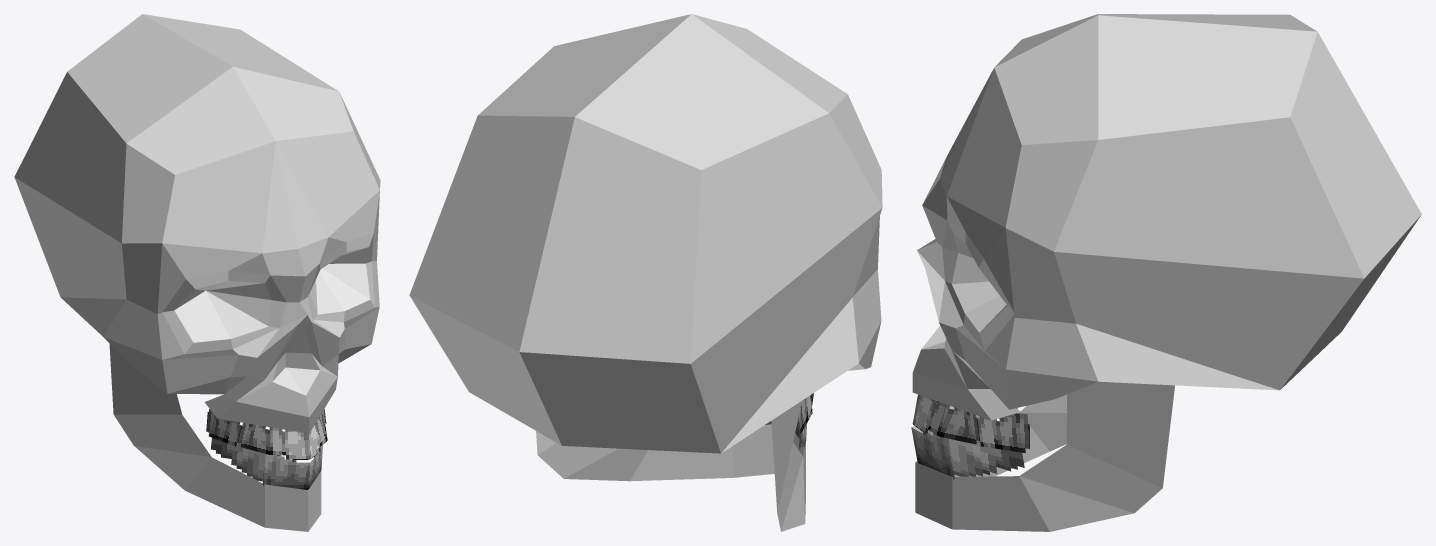
The model's file is Skull.fbx.
3 views of the same model, side by side, from view 1: azimuth 30°, elevation 25°; view 2: azimuth 150°, elevation 25°; view 3: azimuth 270°, elevation 25° (orthographic). The views are drawn at different scales.
Parts seen in each view (by area): view 1: Skull; view 2: Skull; view 3: Skull.
Boxes of the visible parts, x1,y1,x2,y2 form: Skull: (14, 14, 380, 531); Skull: (409, 14, 882, 531); Skull: (911, 14, 1421, 531).
Size of the model in its own units: 16.36 by 24.78 by 23.06.
Materials: 3 (1 with a texture image).
